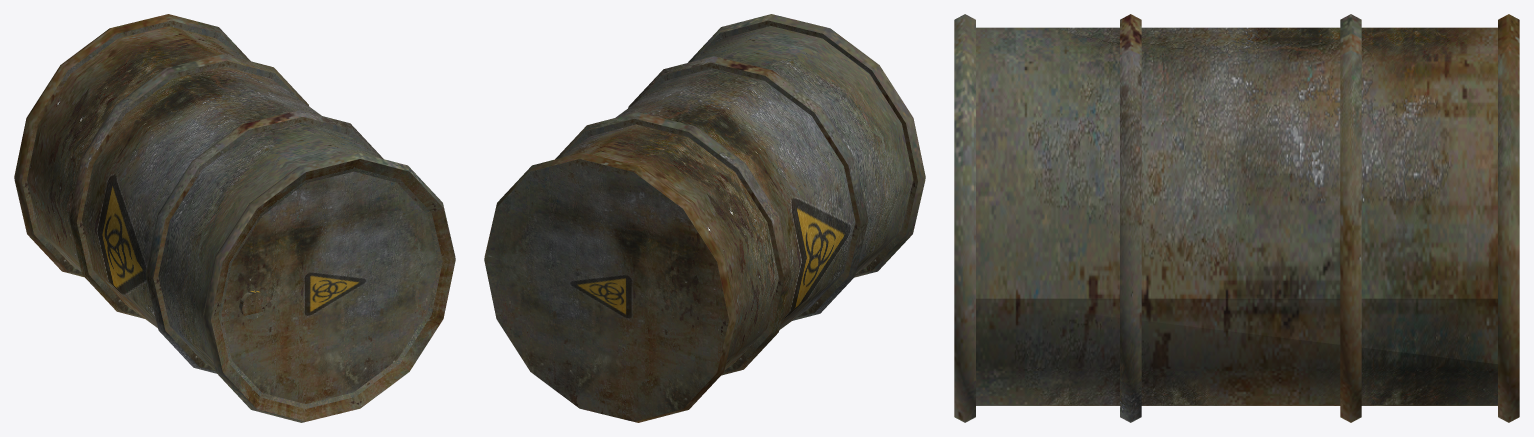
Rendered from barrel_3.fbx.
The picture shows the model from 3 angles, left to right: view 1: azimuth 30°, elevation 25°; view 2: azimuth 150°, elevation 25°; view 3: azimuth 270°, elevation 25°; orthographic projection. The views are drawn at different scales.
Visible parts, largest first — view 1: Cylinder01; view 2: Cylinder01; view 3: Cylinder01.
Part boxes in pixels (<box>): Cylinder01: <box>14,14,455,422</box>; Cylinder01: <box>484,14,925,422</box>; Cylinder01: <box>954,14,1519,422</box>.
Bounding box in the file's own units: 0.6768 × 0.6598 × 0.9146.
